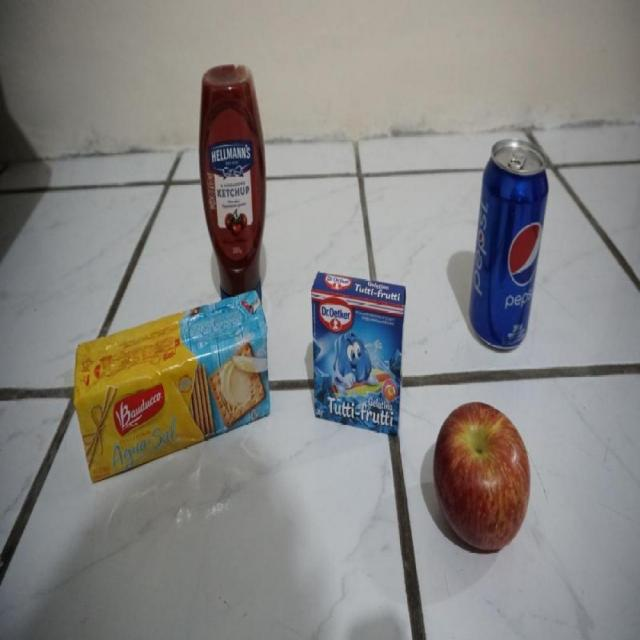Apple: (432, 396, 534, 557)
Cracker: (74, 288, 274, 484)
Gelatine: (310, 265, 406, 440)
Ketchup: (198, 62, 269, 285)
SodaCan: (471, 138, 551, 354)
